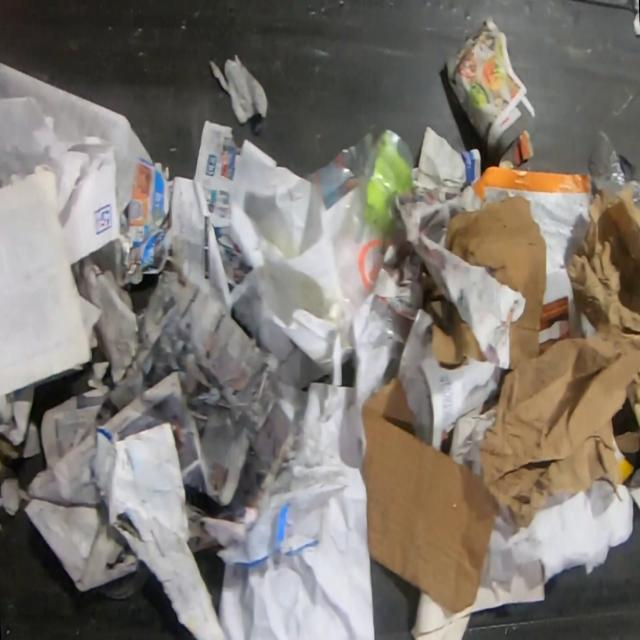cardboard: (360, 375, 501, 612), (480, 335, 640, 528), (444, 194, 546, 368), (418, 257, 493, 372)
rigid_plastic: (304, 129, 416, 309)
soft_plastic: (589, 131, 640, 209)
